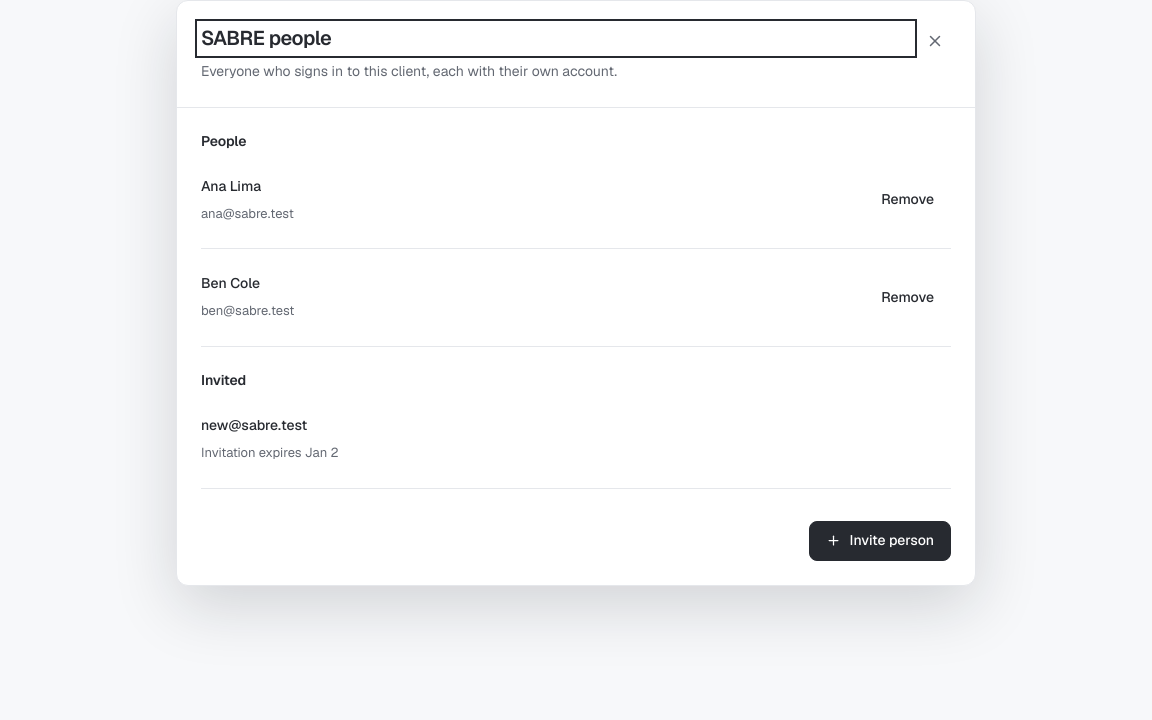
Test: ClientPeopleDialog › switches to the pending sentence once the first attempt already ended access (502)
What coordinates should you click on to do the following:
click the button with aria-label "Remove Ben Cole"
I would click on:
 (908, 298)
Its box is [864,278,951,318].
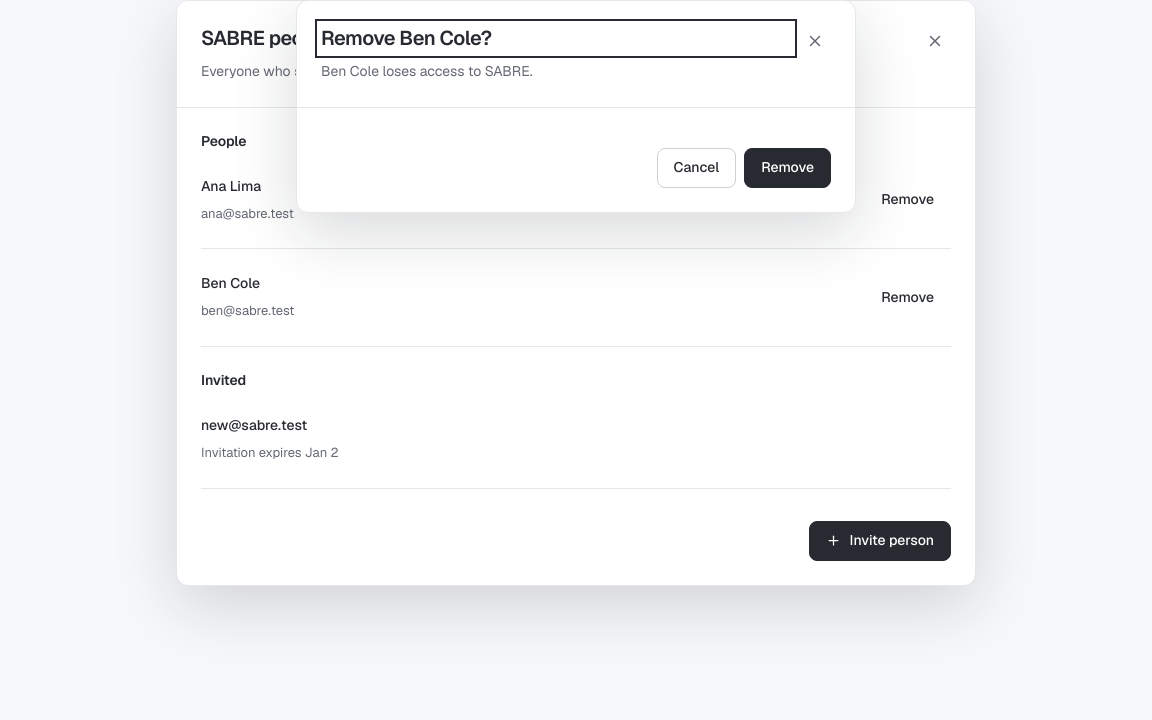
Check: the dialog "Remove Ben Cole?" shows "Ben Cole loses access to SABRE.", box [321,62,532,80]
What coordinates should you click on to do the following:
click the button "Remove" below "Ben Cole loses access to SABRE."
I would click on:
 (788, 168)
Its box is [744,148,831,188].
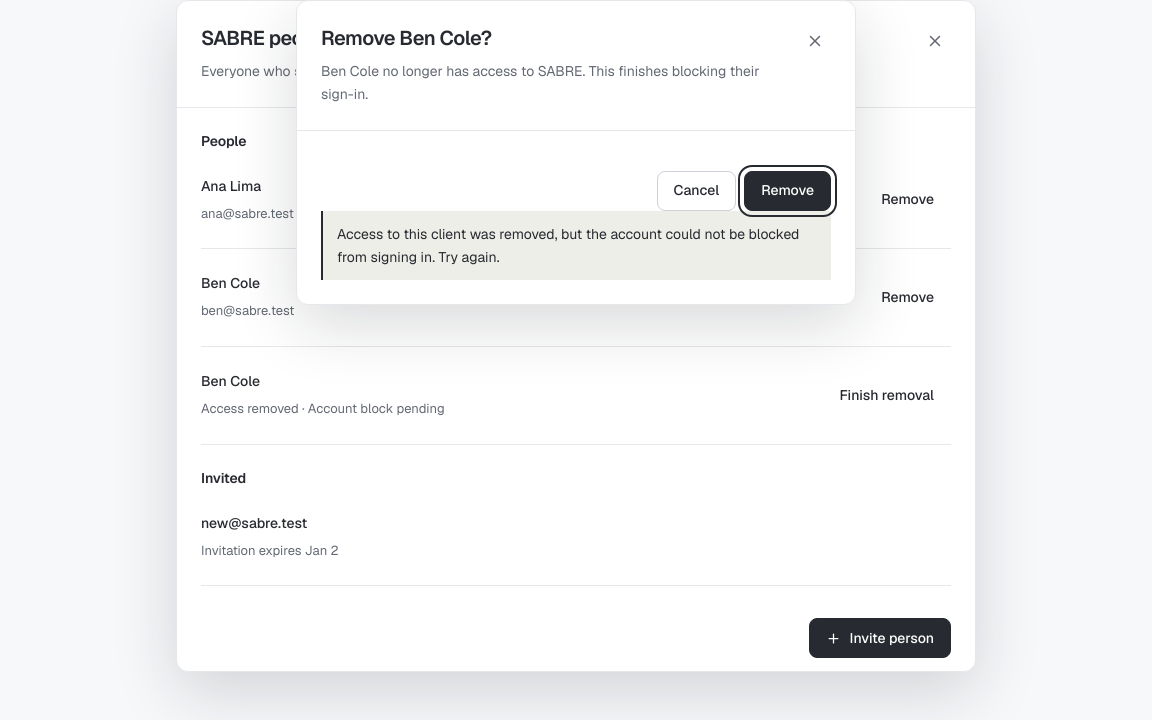
Check: the message is shown, box [321,211,831,280]
Check: the dialog "Remove Ben Cole?" shows "Ben Cole no longer has access to SABRE. This finishes blocking their sign-in.", box [321,62,760,103]
Check: the dialog "Remove Ben Cole?" no longer shows "Ben Cole loses access to SABRE.", box [296,0,856,305]
